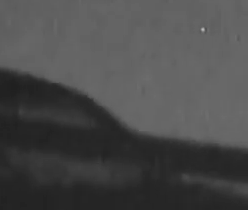Target: (201, 28, 204, 32)
